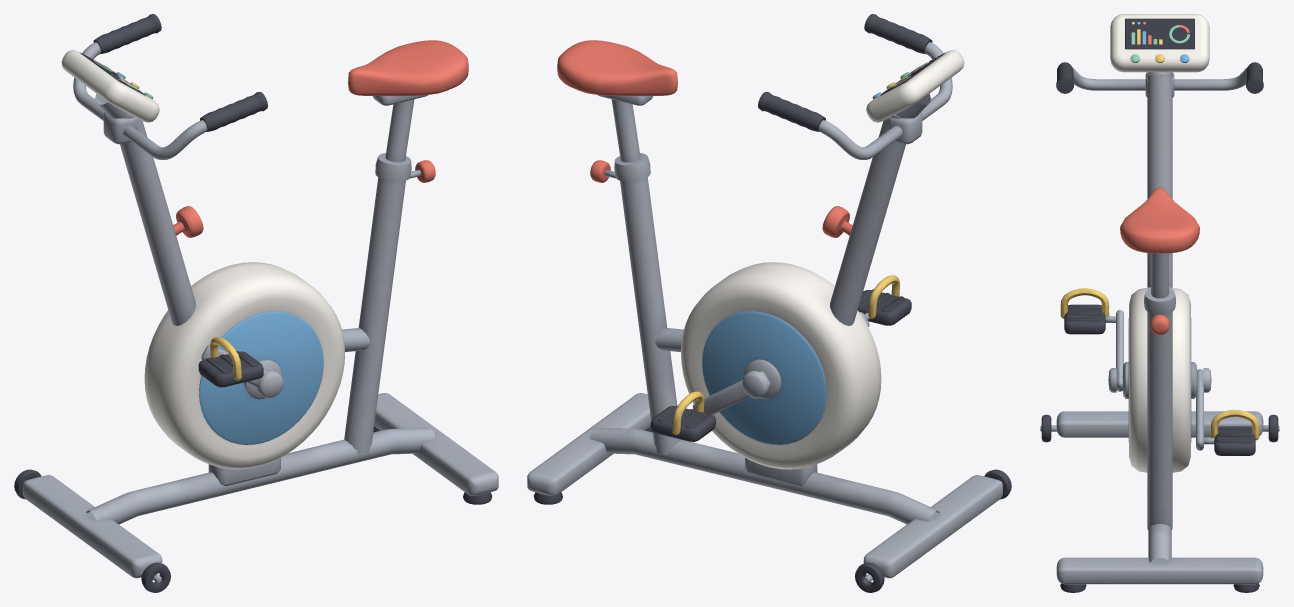
The model's file is g3-exercise-bike.glb.
3 views of the same model, side by side, from view 1: azimuth 30°, elevation 25°; view 2: azimuth 150°, elevation 25°; view 3: azimuth 270°, elevation 25° (orthographic). The views are drawn at different scales.
Visible parts, largest first — view 1: exercise-bike_body, exercise-bike_crank; view 2: exercise-bike_body, exercise-bike_crank; view 3: exercise-bike_body, exercise-bike_crank.
Part boxes in pixels (box(x1,y1,x2,y2)): exercise-bike_body: box(14, 14, 498, 592); exercise-bike_crank: box(198, 337, 283, 398); exercise-bike_body: box(527, 14, 1011, 592); exercise-bike_crank: box(650, 275, 911, 441); exercise-bike_body: box(1040, 14, 1279, 592); exercise-bike_crank: box(1060, 288, 1259, 455).
Bounding box in the file's own units: 0.9575 × 1.14 × 0.58.
Materials: 2 (2 with a texture image).
